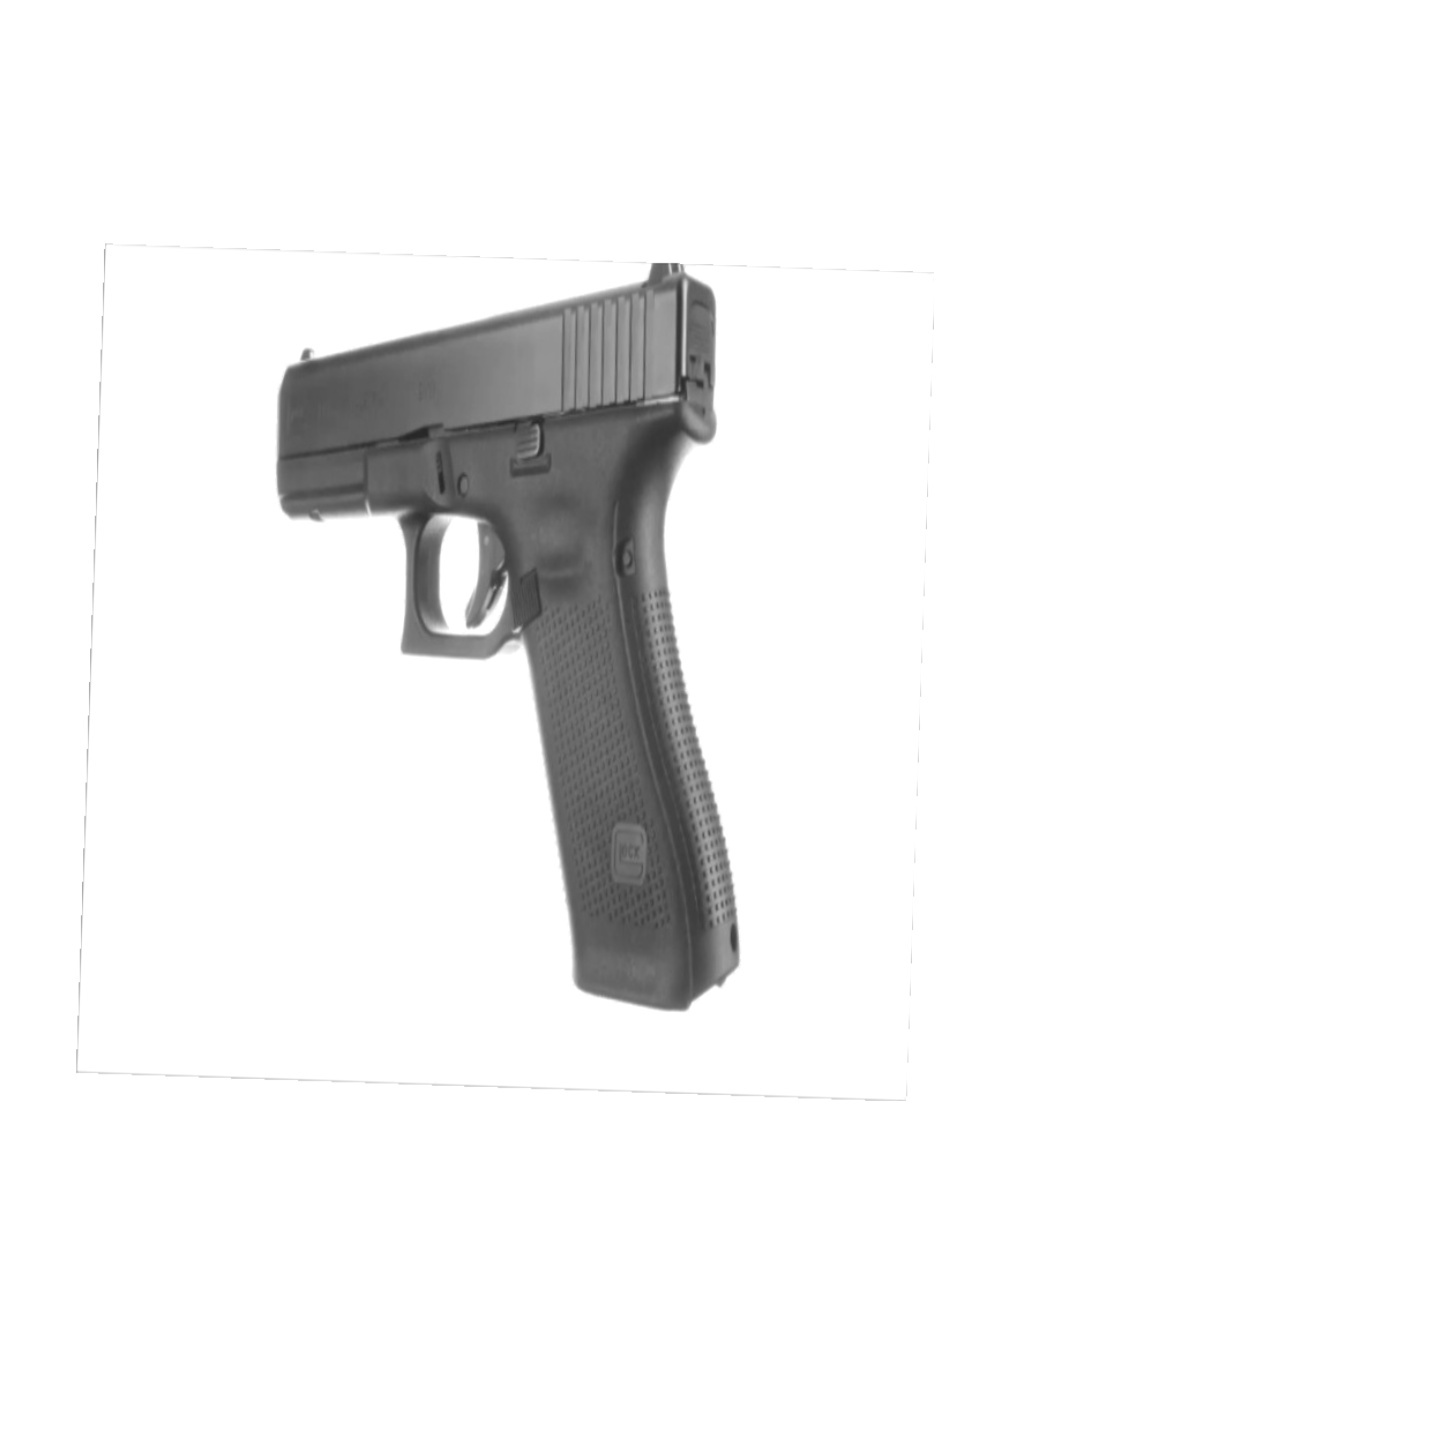gun: (277, 261, 745, 1013)
